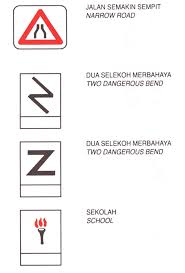Narrow_road: (13, 5, 67, 48)
